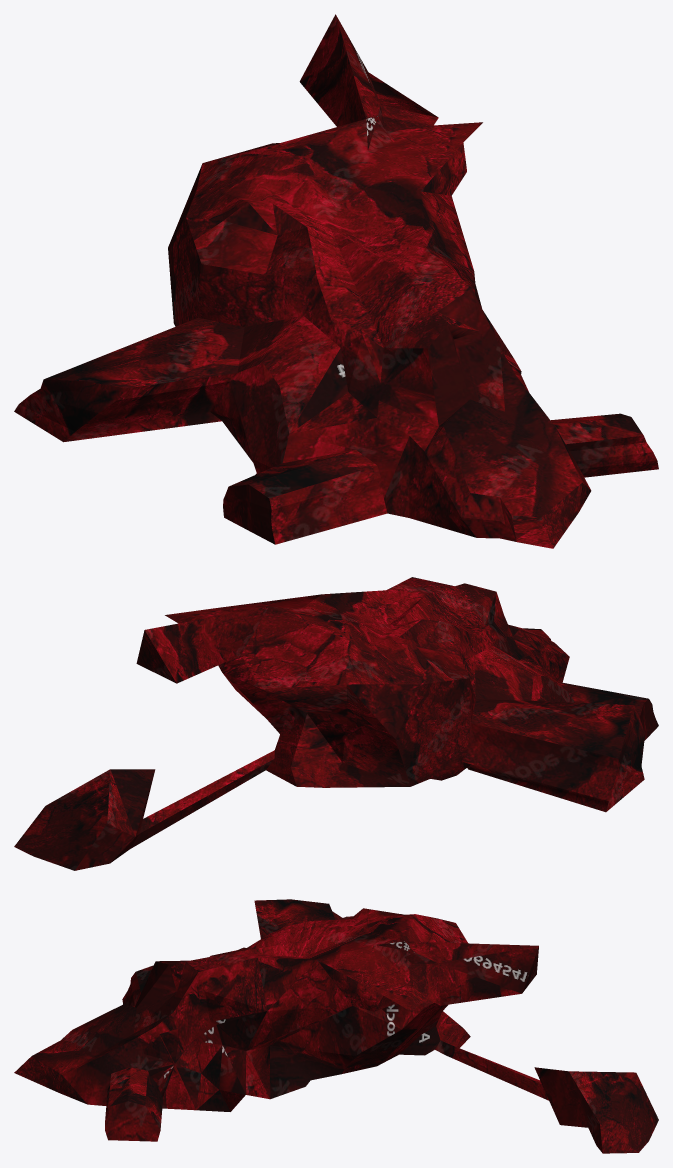
Rendered from 24_cave lvl 8 v3.fbx.
The picture shows the model from 3 angles, top to bottom: view 1: azimuth 30°, elevation 25°; view 2: azimuth 150°, elevation 25°; view 3: azimuth 270°, elevation 25°; orthographic projection. The views are drawn at different scales.
Parts seen in each view (by area): view 1: cave; view 2: cave; view 3: cave.
Boxes of the visible parts, x1=… form: cave: x1=14, y1=14, x2=658, y2=548; cave: x1=14, y1=577, x2=658, y2=870; cave: x1=14, y1=899, x2=658, y2=1153.
Size of the model in its own units: 108 by 47.66 by 152.
